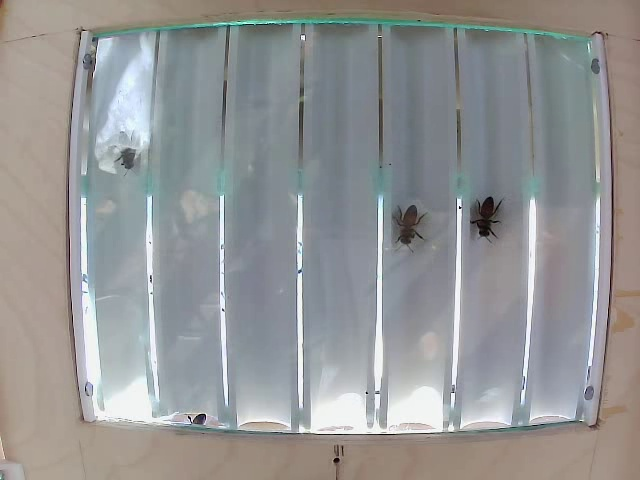bee: (473, 190, 501, 242), (113, 126, 142, 173), (396, 202, 424, 250)
